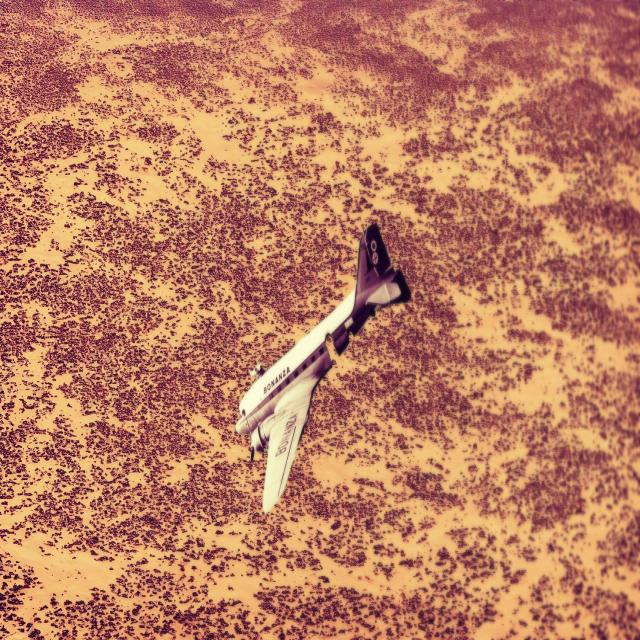airplane: (234, 221, 411, 514)
